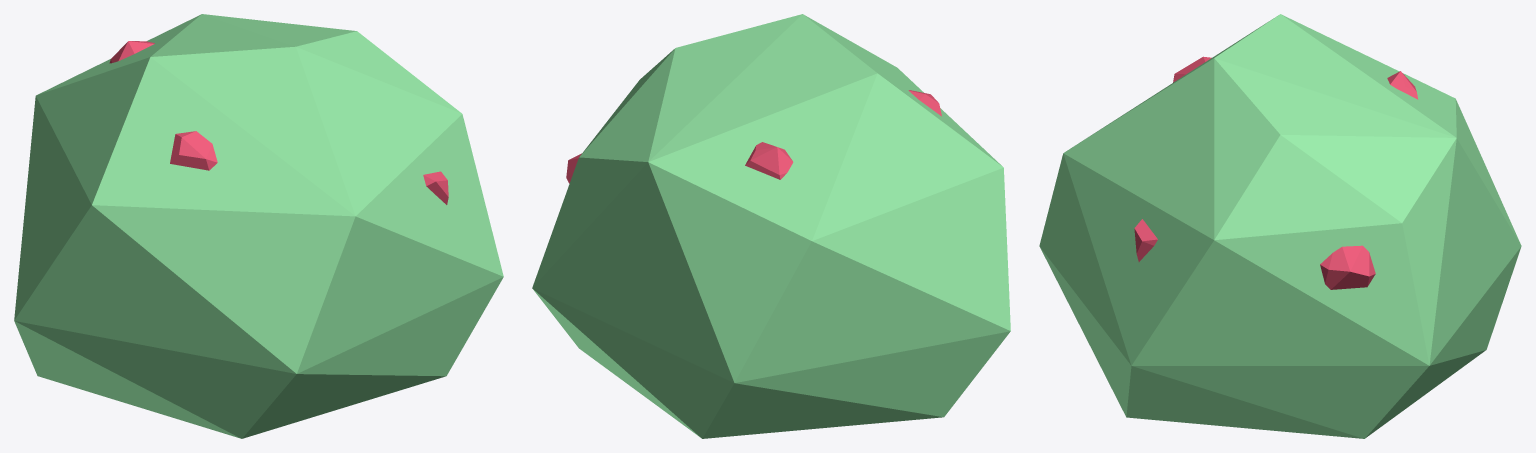
File: bush_001.fbx
3 views of the same model, side by side, from view 1: azimuth 30°, elevation 25°; view 2: azimuth 150°, elevation 25°; view 3: azimuth 270°, elevation 25° (orthographic). The views are drawn at different scales.
Parts seen in each view (by area): view 1: Bush_001_LOD0, Bush_001_Berries_LOD0; view 2: Bush_001_LOD0, Bush_001_Berries_LOD0; view 3: Bush_001_LOD0, Bush_001_Berries_LOD0.
Part boxes in pixels (x1,y1,x2,y2): Bush_001_LOD0: (14, 14, 503, 438); Bush_001_Berries_LOD0: (109, 41, 448, 204); Bush_001_LOD0: (532, 14, 1010, 438); Bush_001_Berries_LOD0: (566, 90, 941, 183); Bush_001_LOD0: (1039, 14, 1521, 438); Bush_001_Berries_LOD0: (1134, 56, 1418, 289).
Size of what is drawn, in the model's own units: 93.06 by 68.7 by 96.87.
